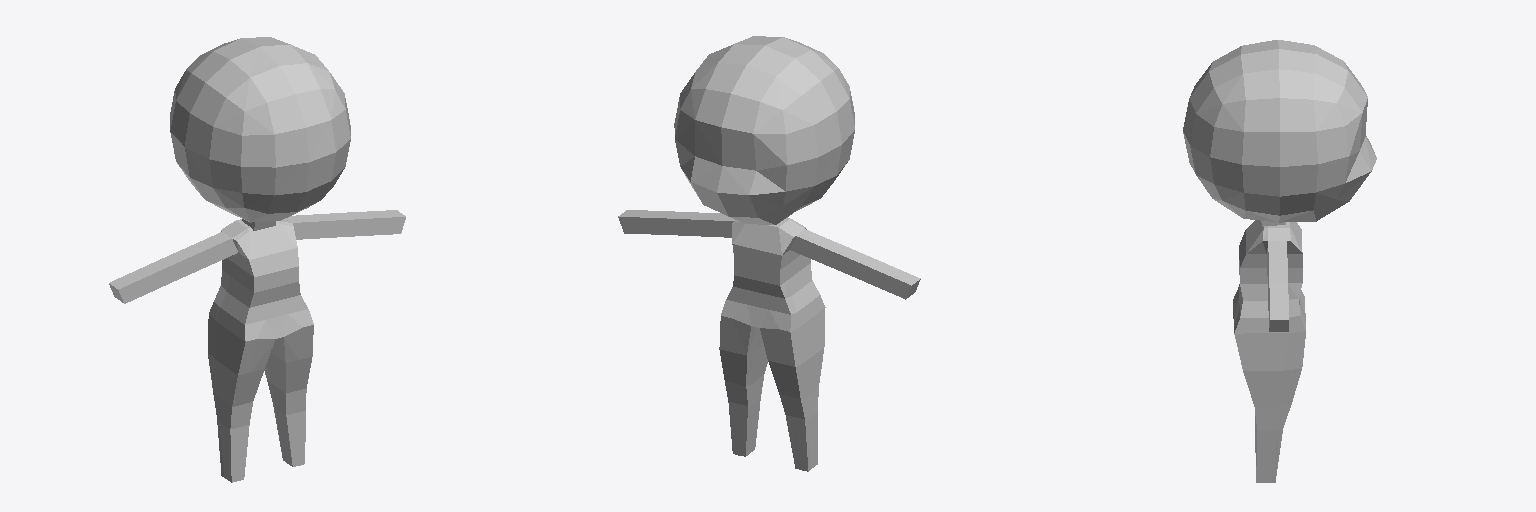
The model's file is player.obj.
The picture shows the model from 3 angles: view 1: azimuth 30°, elevation 25°; view 2: azimuth 150°, elevation 25°; view 3: azimuth 270°, elevation 25°; orthographic projection.
Parts seen in each view (by area): view 1: 頭; view 2: 頭; view 3: 頭.
Part boxes in pixels (x1,y1,x2,y2): 頭: (109, 37, 405, 482); 頭: (618, 36, 920, 471); 頭: (1183, 40, 1376, 482).
Bounding box in the file's own units: 1.4 × 1.93 × 0.8117.